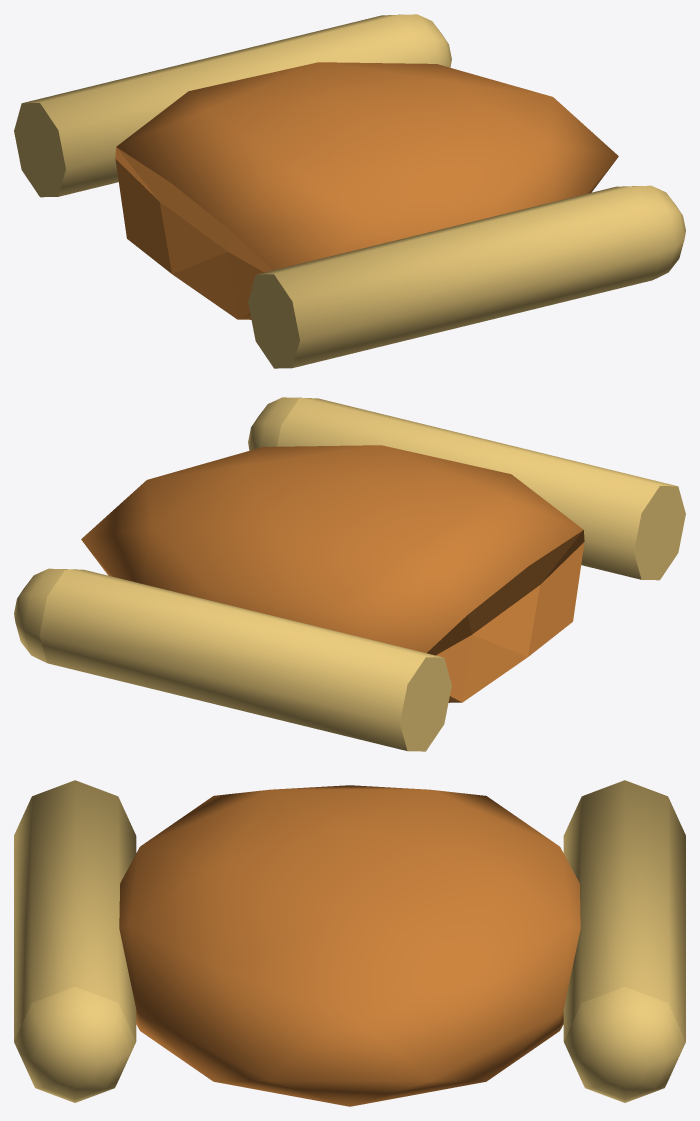
File: spaceship.gltf
3 views of the same model, one above another, from view 1: azimuth 30°, elevation 25°; view 2: azimuth 150°, elevation 25°; view 3: azimuth 270°, elevation 25° (orthographic). The views are drawn at different scales.
Visible parts, largest first — view 1: Body.001, Cylinder.002, Cylinder.001, Sphere.003, Sphere.002; view 2: Body.001, Cylinder.001, Cylinder.002, Sphere.002, Sphere.003; view 3: Body.001, Cylinder.001, Cylinder.002, Sphere.002, Sphere.003.
Boxes of the visible parts, bbox=[...] form: Body.001: bbox=[115, 62, 618, 319]; Cylinder.002: bbox=[248, 186, 660, 368]; Cylinder.001: bbox=[14, 15, 422, 197]; Sphere.003: bbox=[622, 185, 685, 279]; Sphere.002: bbox=[388, 14, 451, 67]; Body.001: bbox=[81, 445, 584, 702]; Cylinder.001: bbox=[39, 569, 451, 751]; Cylinder.002: bbox=[277, 398, 685, 580]; Sphere.002: bbox=[14, 568, 77, 662]; Sphere.003: bbox=[248, 397, 311, 450]; Body.001: bbox=[119, 785, 580, 1106]; Cylinder.001: bbox=[563, 780, 685, 1041]; Cylinder.002: bbox=[14, 780, 136, 1041]; Sphere.002: bbox=[564, 987, 685, 1102]; Sphere.003: bbox=[14, 987, 135, 1102].
Bounding box in the file's own units: 1.9 × 0.8 × 2.2.
